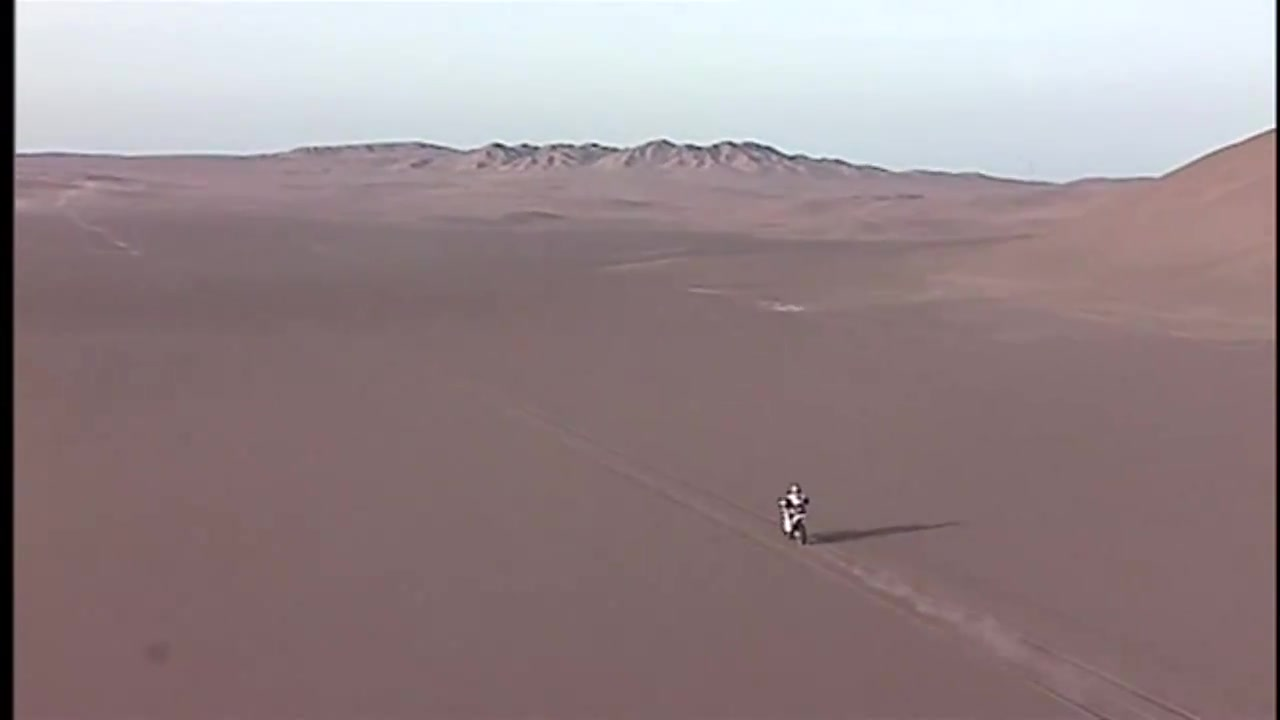motorbike: (777, 496, 815, 548)
